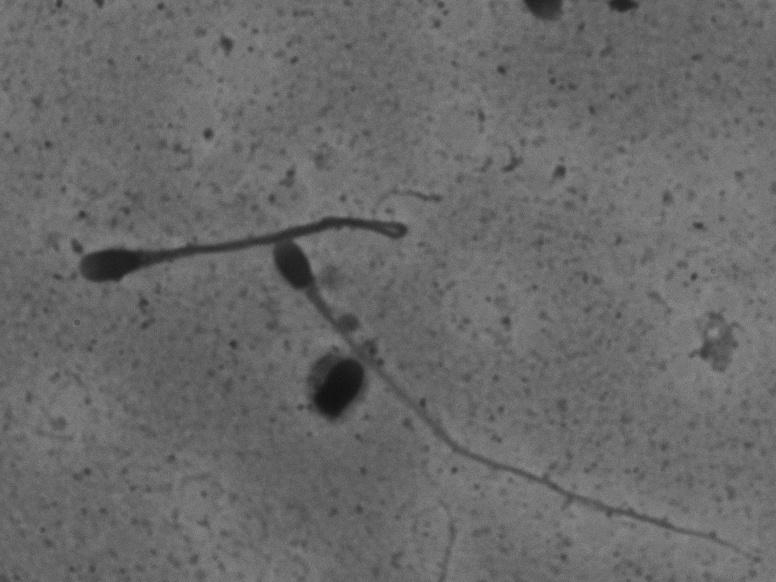Abnormal: (261, 236, 758, 567), (58, 196, 423, 297)
